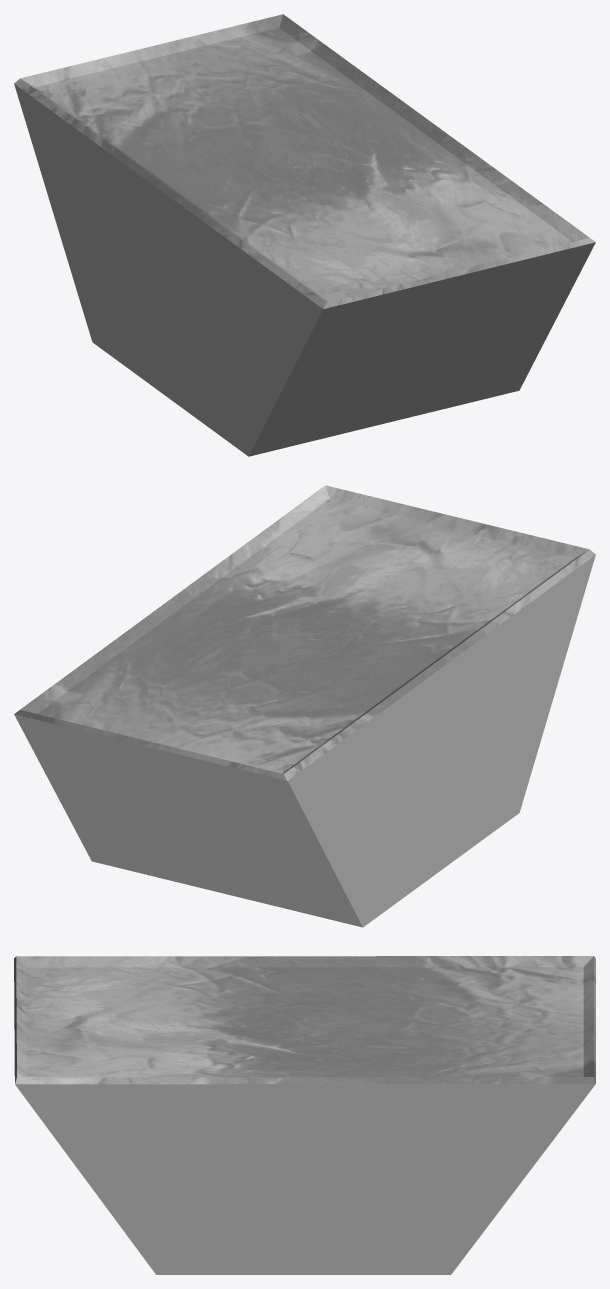
Rendered from Red&GreenCrossetteHelix.fbx.
The picture shows the model from 3 angles, top to bottom: view 1: azimuth 30°, elevation 25°; view 2: azimuth 150°, elevation 25°; view 3: azimuth 270°, elevation 25°; orthographic projection. The views are drawn at different scales.
Visible parts, largest first — view 1: Cube; view 2: Cube; view 3: Cube.
Part boxes in pixels (bbox=[...]): Cube: bbox=[14, 14, 595, 456]; Cube: bbox=[14, 485, 595, 927]; Cube: bbox=[14, 956, 595, 1274].
Size of the model in its own units: 20.24 by 14.66 by 39.48.
